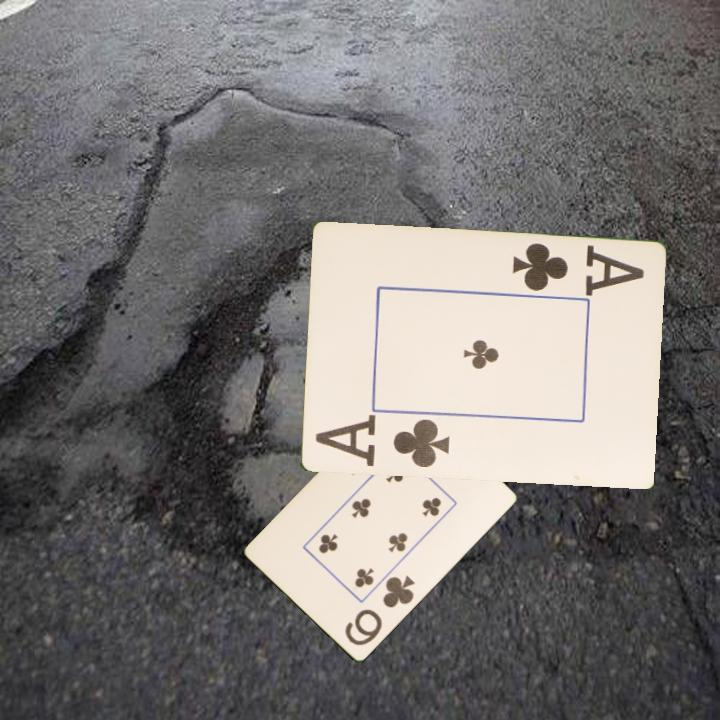6c: (341, 572, 418, 649)
Ac: (311, 413, 453, 471), (508, 240, 647, 298)
